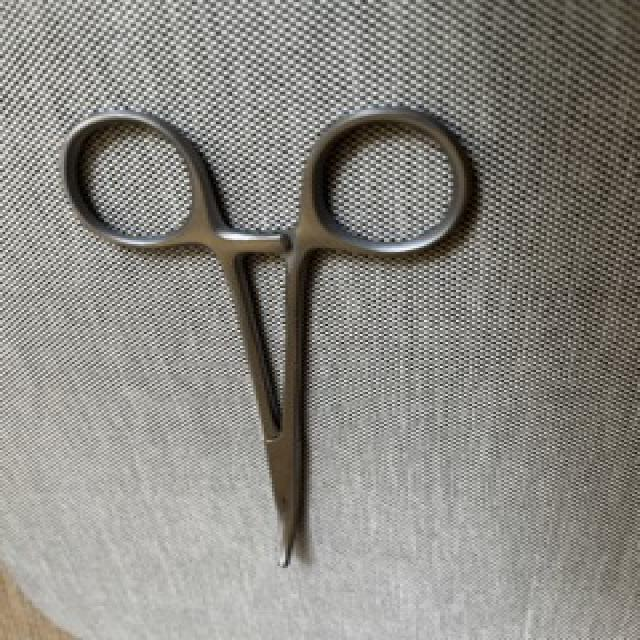scissor: (48, 99, 496, 584)
